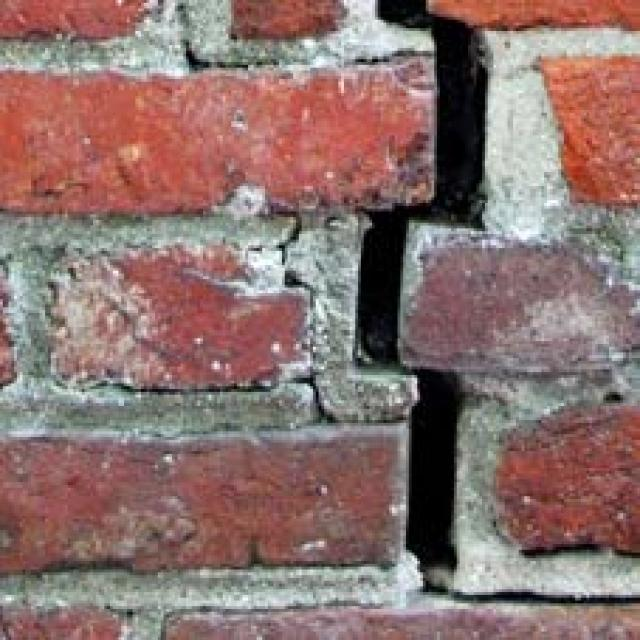Crack: (248, 0, 610, 640)
